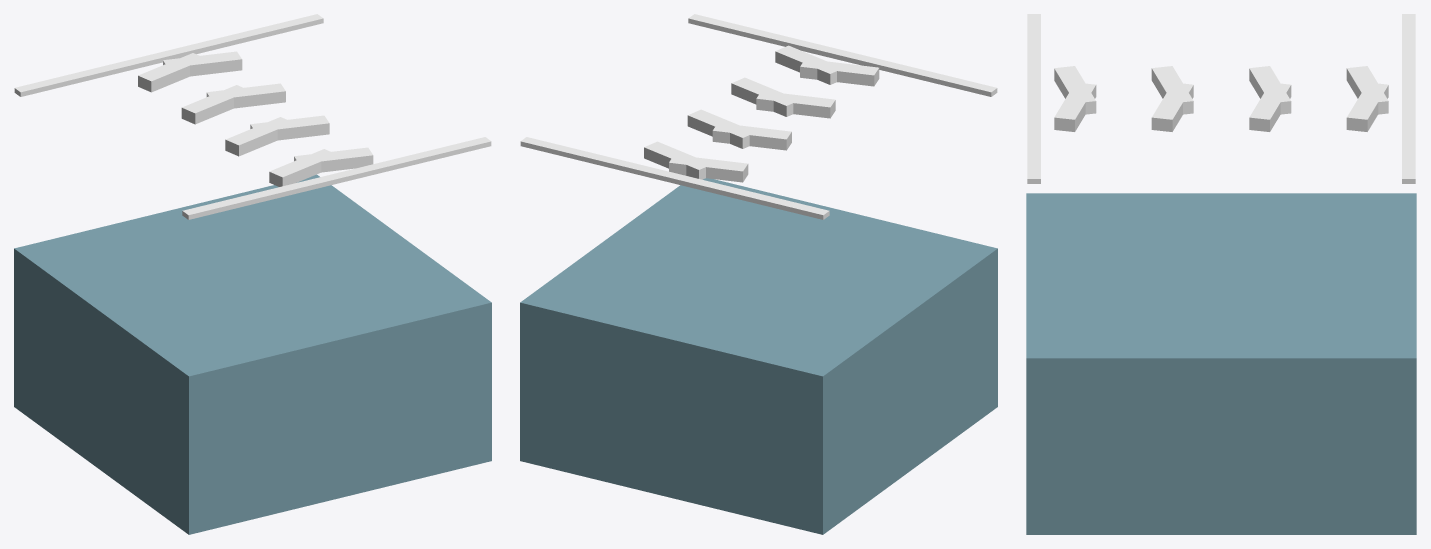
Rendered from ThinConveyor_Half.glb.
3 renders of one model, left to right at view 1: azimuth 30°, elevation 25°; view 2: azimuth 150°, elevation 25°; view 3: azimuth 270°, elevation 25°, orthographic. The views are drawn at different scales.
Parts seen in each view (by area): view 1: ThinConveyor_Half_body, rail_-0.006, rail_0.006, chev_1_1.006, chev_3_1.006, chev_0_1.006, chev_2_1.006, chev_1_-1.006, chev_2_-1.006, chev_0_-1.006, chev_3_-1.006; view 2: ThinConveyor_Half_body, rail_0.006, rail_-0.006, chev_2_1.006, chev_0_1.006, chev_3_1.006, chev_1_-1.006, chev_1_1.006, chev_0_-1.006, chev_2_-1.006, chev_3_-1.006; view 3: ThinConveyor_Half_body, rail_0.006, rail_-0.006, chev_3_-1.006, chev_2_-1.006, chev_1_-1.006, chev_0_-1.006, chev_0_1.006, chev_1_1.006, chev_2_1.006, chev_3_1.006.
Part boxes in pixels (x1,y1,x2,y2): ThinConveyor_Half_body: [14, 174, 491, 534]; rail_-0.006: [182, 137, 491, 219]; rail_0.006: [14, 14, 323, 96]; chev_1_1.006: [225, 117, 293, 156]; chev_3_1.006: [138, 53, 205, 92]; chev_0_1.006: [269, 149, 336, 186]; chev_2_1.006: [181, 85, 243, 124]; chev_1_-1.006: [250, 115, 329, 140]; chev_2_-1.006: [206, 83, 285, 108]; chev_0_-1.006: [294, 147, 373, 172]; chev_3_-1.006: [163, 51, 242, 76]; ThinConveyor_Half_body: [520, 178, 997, 534]; rail_0.006: [520, 137, 829, 219]; rail_-0.006: [688, 14, 997, 96]; chev_2_1.006: [712, 123, 791, 150]; chev_0_1.006: [800, 59, 879, 86]; chev_3_1.006: [669, 155, 748, 182]; chev_1_-1.006: [731, 77, 799, 116]; chev_1_1.006: [756, 93, 835, 118]; chev_0_-1.006: [775, 45, 836, 84]; chev_2_-1.006: [687, 109, 749, 148]; chev_3_-1.006: [644, 141, 705, 179]; ThinConveyor_Half_body: [1026, 193, 1416, 534]; rail_0.006: [1402, 14, 1415, 183]; rail_-0.006: [1027, 14, 1040, 183]; chev_3_-1.006: [1346, 83, 1388, 131]; chev_2_-1.006: [1249, 82, 1291, 131]; chev_1_-1.006: [1151, 82, 1193, 131]; chev_0_-1.006: [1054, 82, 1096, 131]; chev_0_1.006: [1054, 66, 1096, 114]; chev_1_1.006: [1151, 66, 1193, 114]; chev_2_1.006: [1249, 66, 1291, 114]; chev_3_1.006: [1346, 66, 1388, 114].
Size of the model in its own units: 1 by 1.02 by 1.
